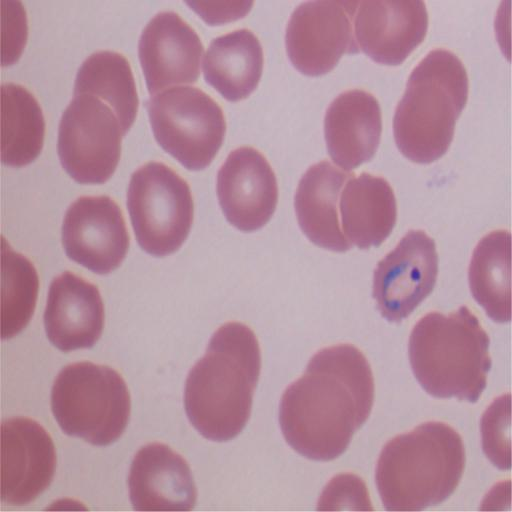Infected: (372, 227, 436, 323)
Uninfected: (411, 308, 492, 400), (148, 86, 224, 173), (184, 355, 254, 443), (131, 164, 195, 259), (281, 376, 353, 460), (296, 161, 360, 253), (307, 343, 373, 429), (59, 94, 121, 185), (138, 10, 205, 94), (216, 146, 280, 232), (62, 195, 130, 275), (377, 433, 442, 512), (74, 53, 137, 133), (128, 441, 196, 512), (354, 0, 428, 65), (287, 0, 349, 77), (396, 83, 456, 162), (46, 273, 104, 354), (338, 174, 398, 249), (407, 50, 468, 123), (203, 28, 264, 101), (204, 321, 261, 399), (407, 421, 464, 498), (326, 90, 381, 168), (78, 365, 130, 445), (51, 364, 110, 433)
